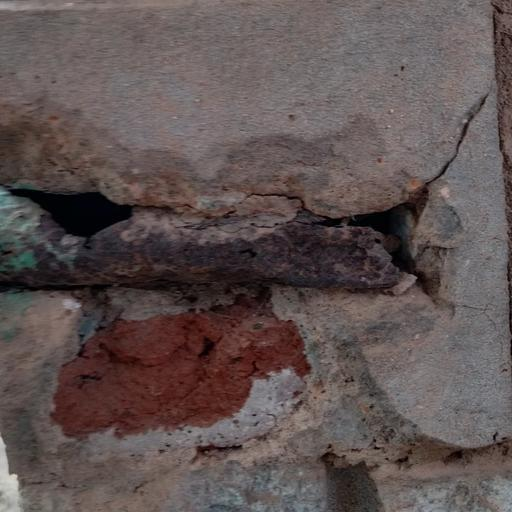spalling: (15, 134, 454, 465)
